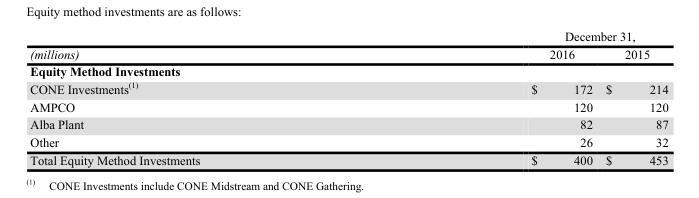table: (29, 28, 667, 166)
table column: (29, 28, 364, 166), (364, 28, 598, 166), (598, 28, 667, 166)
table column header: (29, 28, 667, 62)
table projected row header: (29, 62, 667, 79)
table row: (29, 44, 667, 62), (29, 79, 667, 97), (29, 97, 667, 115), (29, 115, 667, 133), (29, 62, 667, 79), (29, 133, 667, 150), (29, 28, 667, 44), (29, 150, 667, 166)
table spanning cell: (29, 28, 364, 62), (364, 28, 667, 44)
